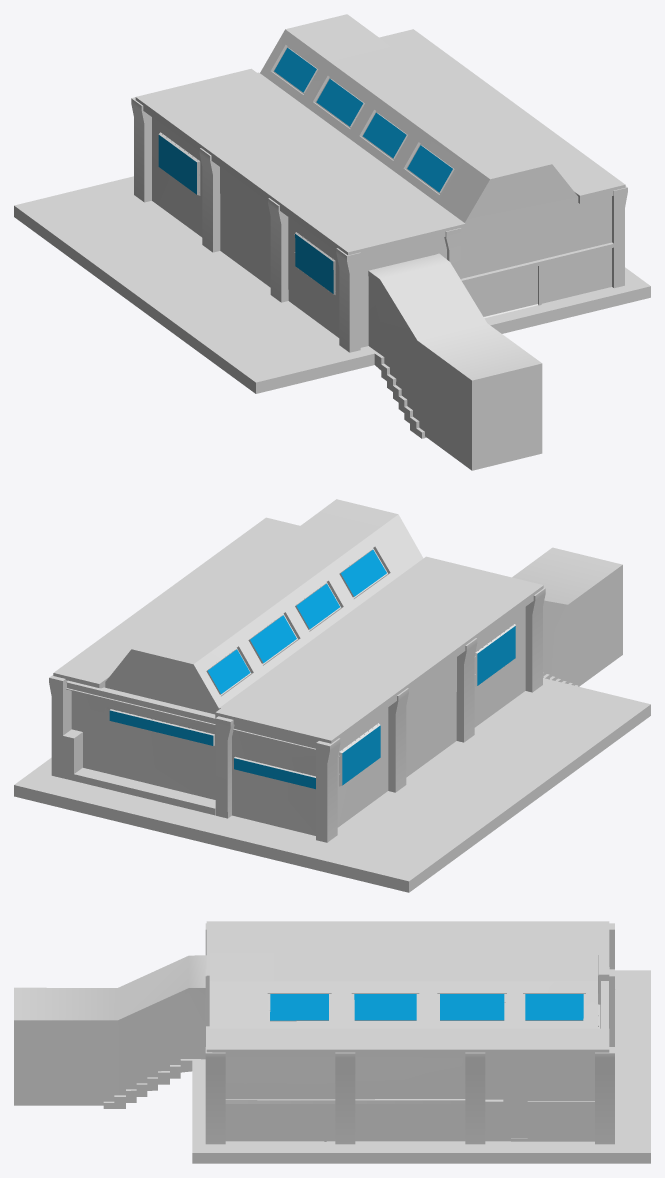
Rendered from MainMenuLargeAssets.fbx.
The picture shows the model from 3 angles, top to bottom: view 1: azimuth 30°, elevation 25°; view 2: azimuth 150°, elevation 25°; view 3: azimuth 270°, elevation 25°; orthographic projection. The views are drawn at different scales.
Parts seen in each view (by area): view 1: SM_MainMenuWalls, SM_MainMenuPillars, SM_Floor, SM_MainMenuInnerwalls; view 2: SM_MainMenuWalls, SM_MainMenuPillars, SM_Floor, SM_MainMenuInnerwalls; view 3: SM_MainMenuWalls, SM_MainMenuPillars, SM_Floor, SM_MainMenuInnerwalls.
Boxes of the visible parts, box(x1,y1,x2,y2) form: SM_MainMenuWalls: box(152, 14, 611, 470); SM_MainMenuPillars: box(131, 29, 627, 352); SM_Floor: box(14, 176, 650, 438); SM_MainMenuInnerwalls: box(461, 242, 613, 318); SM_MainMenuWalls: box(71, 499, 622, 835); SM_MainMenuPillars: box(49, 517, 545, 842); SM_Floor: box(14, 672, 650, 892); SM_MainMenuInnerwalls: box(63, 729, 215, 815); SM_MainMenuWalls: box(14, 952, 609, 1141); SM_MainMenuPillars: box(205, 921, 614, 1144); SM_Floor: box(103, 970, 650, 1163); SM_MainMenuInnerwalls: box(206, 1026, 594, 1141).
Bounding box in the file's own units: 3538 × 1612 × 5211.
